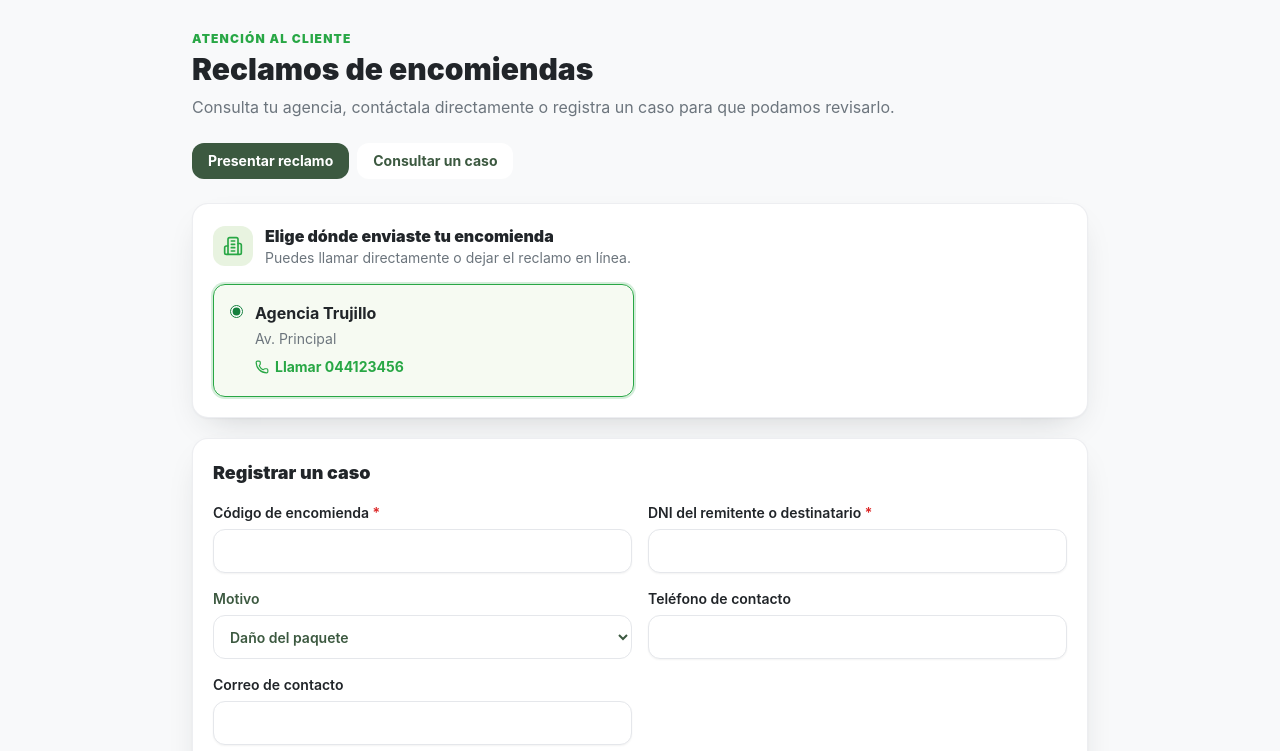
Scenario: flujo público de reclamos › consulta con solo uno de los identificadores y muestra una lista de resúmenes
This screenshot has width=1280, height=751.
Expected: the text "Agencia Trujillo" is shown, [255,303,376,323]
Click the tab "Consultar un caso": (435, 161) [357,143,513,179]
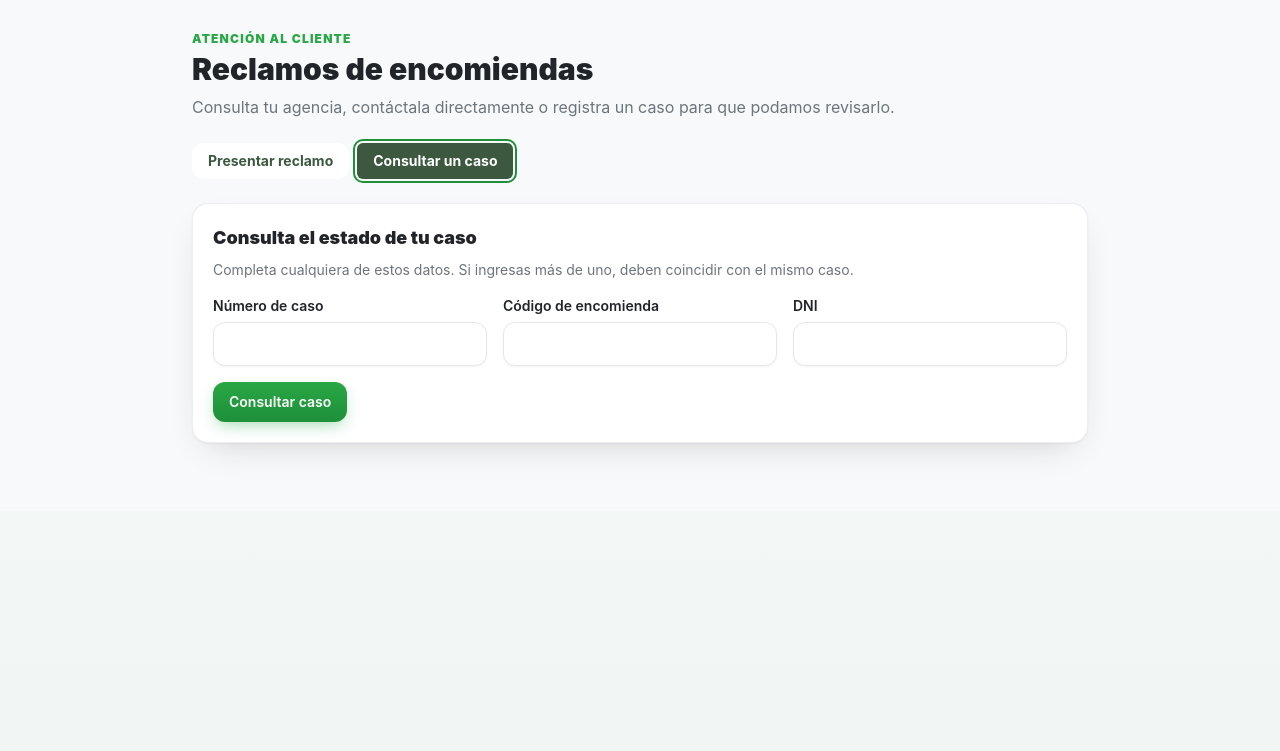
In the field labelled "DNI": (930, 344) [793,322,1067,366], type "70123456"
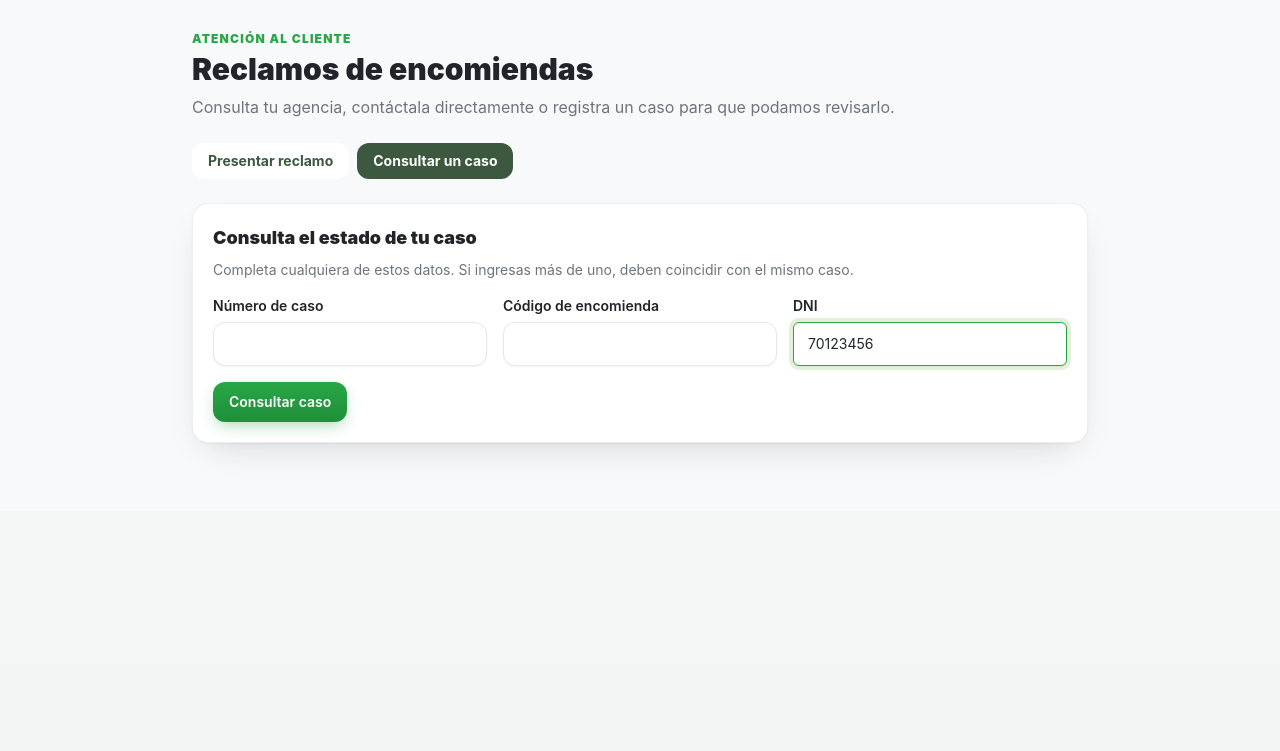
Click the button "Consultar caso": (280, 402) [213,382,347,422]
(page scrolled)
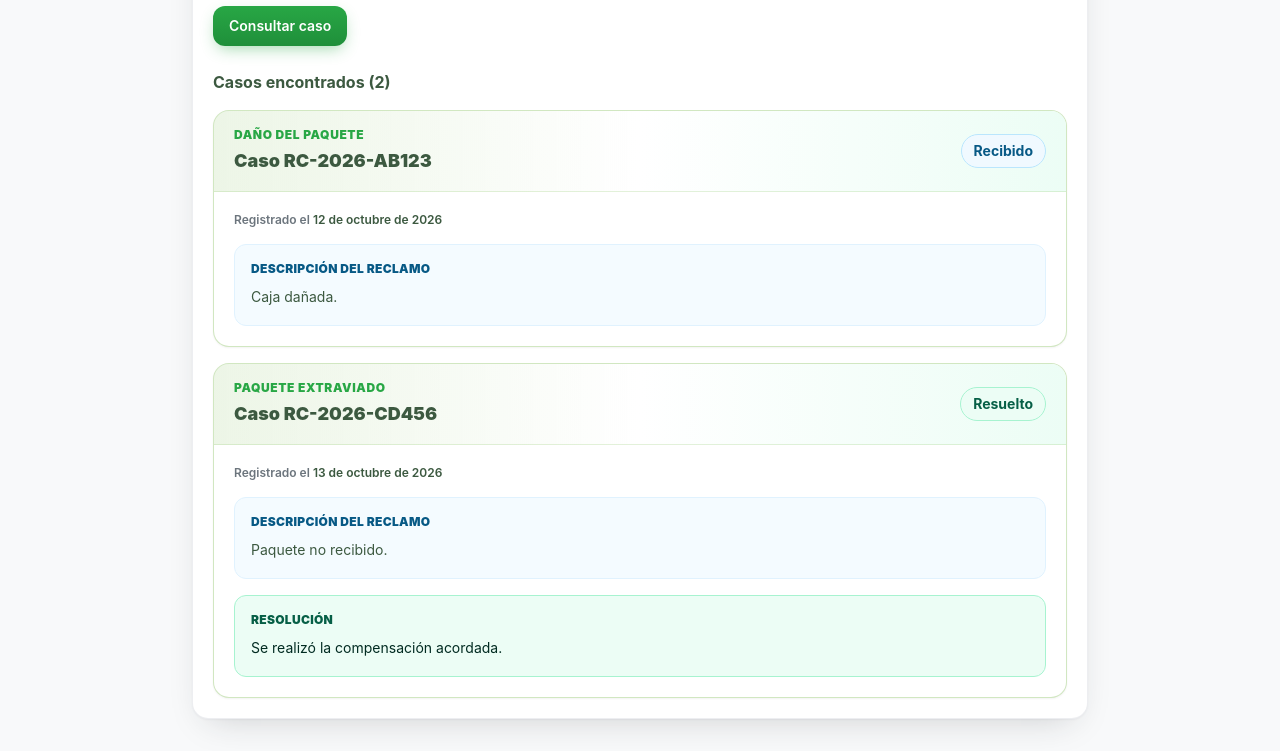
Expected: the heading "Casos encontrados (2)" is shown, [213,72,391,92]
Expected: the heading "Caso RC-2026-AB123" is shown, [234,147,432,175]
Expected: the heading "Caso RC-2026-CD456" is shown, [234,400,437,428]
